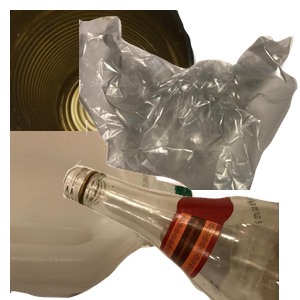glass: (60, 120, 300, 300)
metal: (10, 10, 200, 180)
plastic: (10, 131, 196, 300)
trash: (79, 14, 300, 194)
